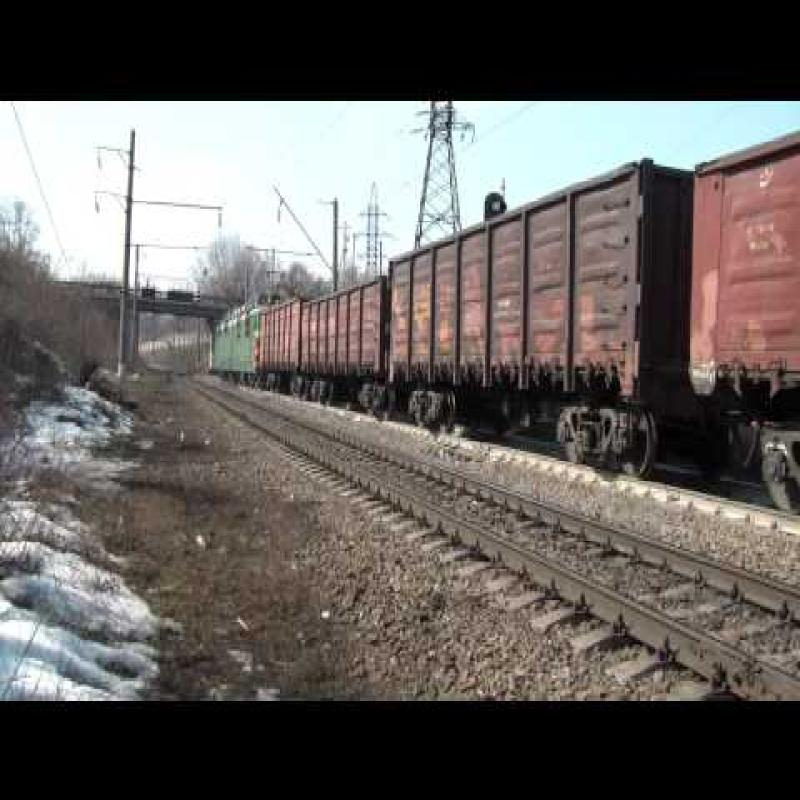train: (388, 160, 755, 473), (287, 268, 393, 390)
